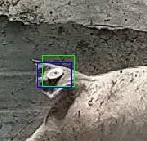text: (42, 55, 74, 86)
